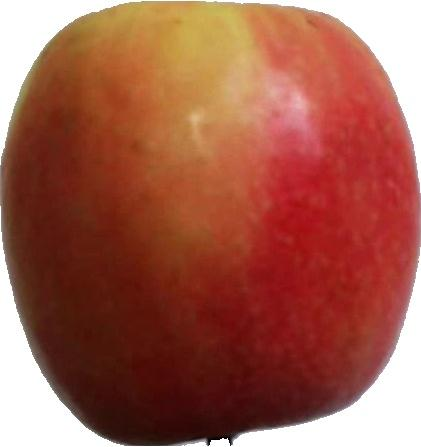Apple Ripe: (0, 0, 421, 443)
